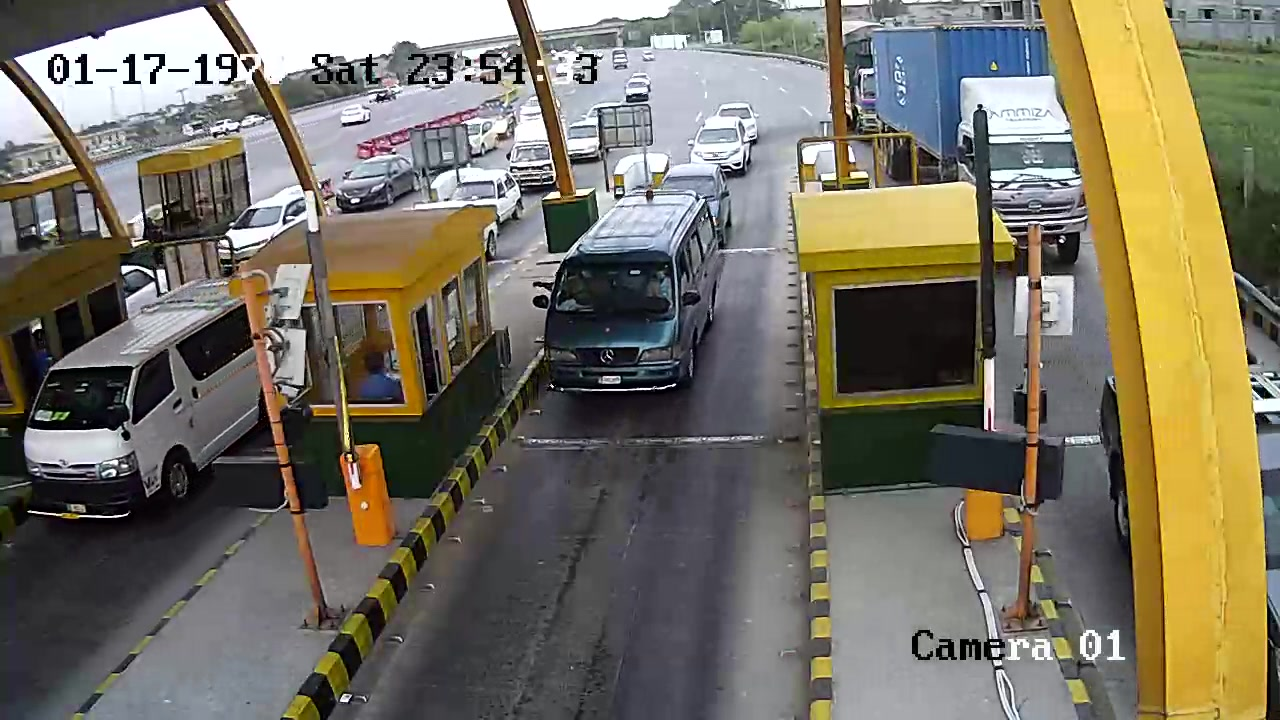F3: (544, 184, 722, 401)
